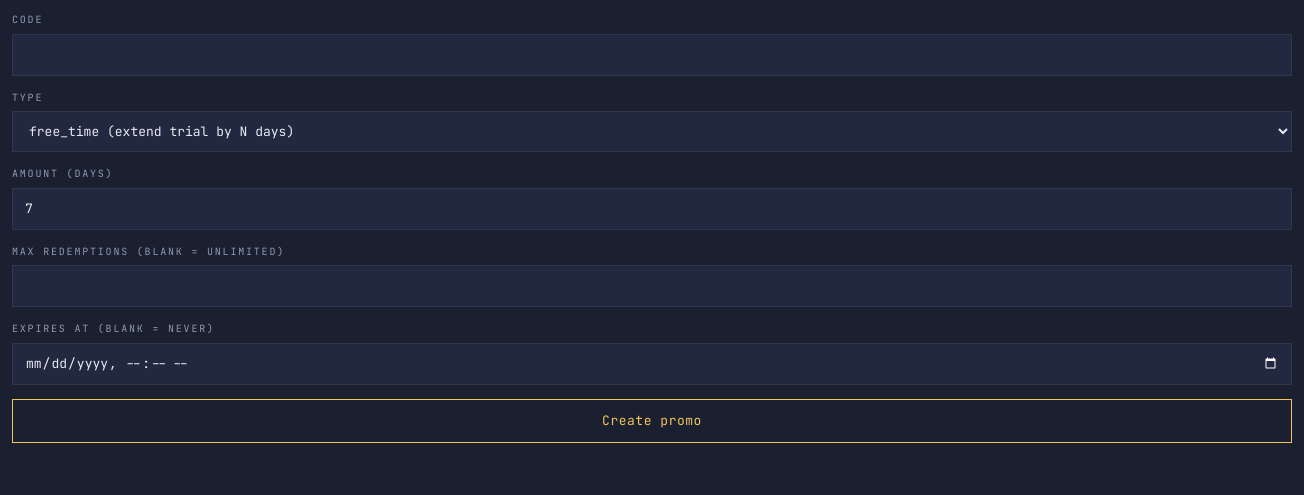
CreatePromoForm › blocks submission and shows an error when amount is empty
The image size is (1304, 495).
Step 1. Type "GIFT" into the field labelled "Code" → (652, 55), box [12, 34, 1292, 76]
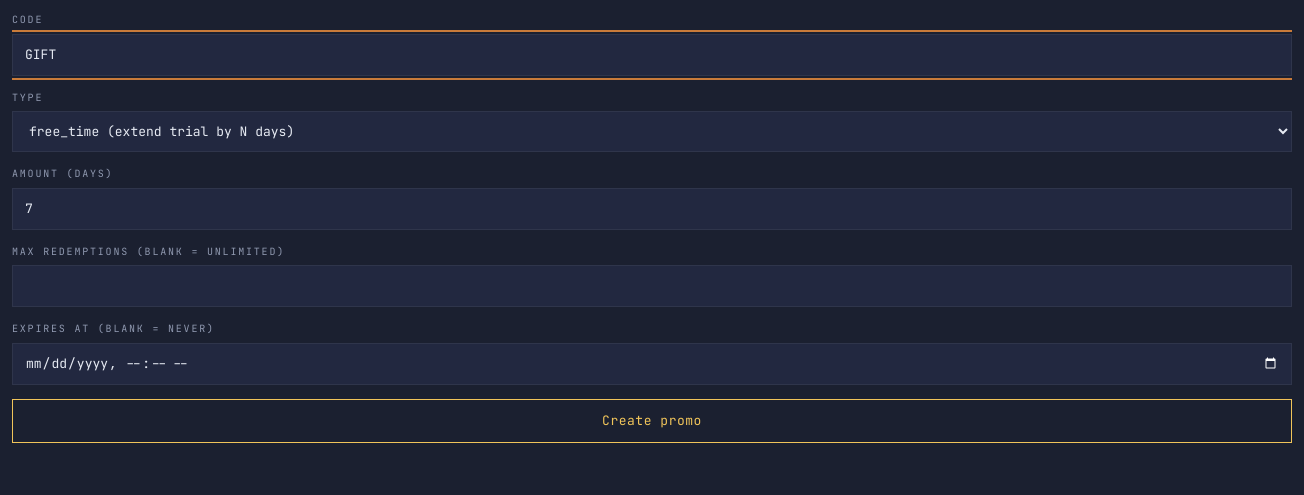
Step 2. Clear the number field labelled "Amount (days)" → (652, 209), box [12, 188, 1292, 230]
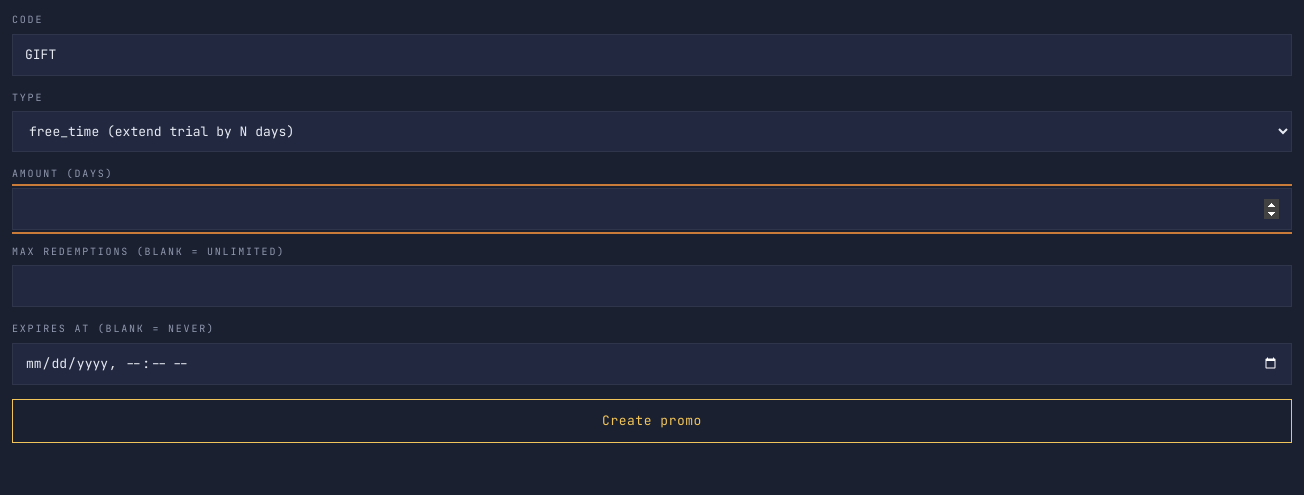
Step 3. Click the button "Create promo" → (652, 421), box [12, 399, 1292, 443]
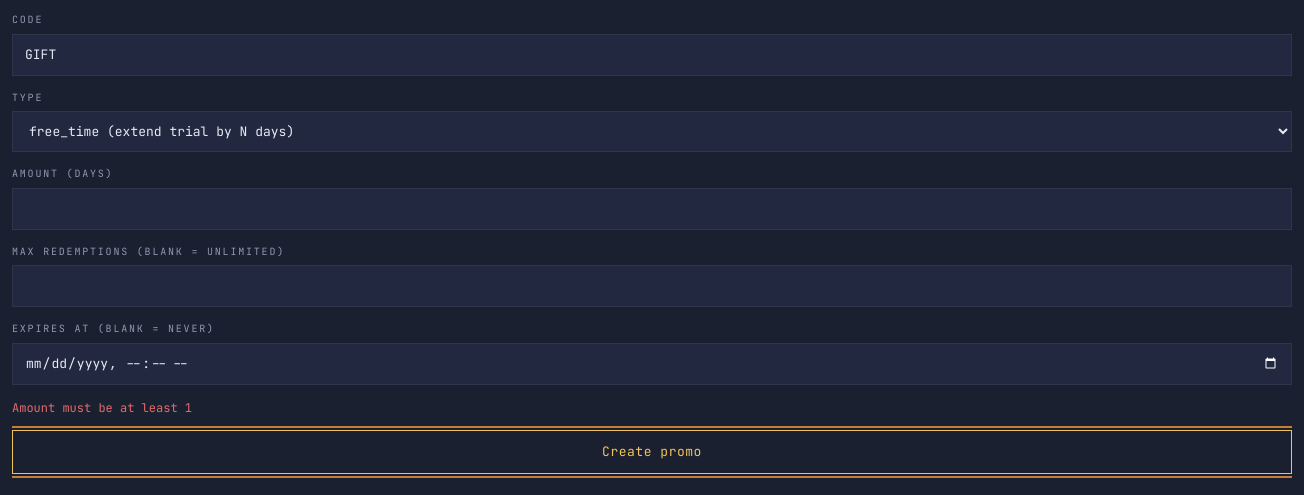
Expected: the message reads "Amount must be at least 1", [12, 400, 192, 416]
